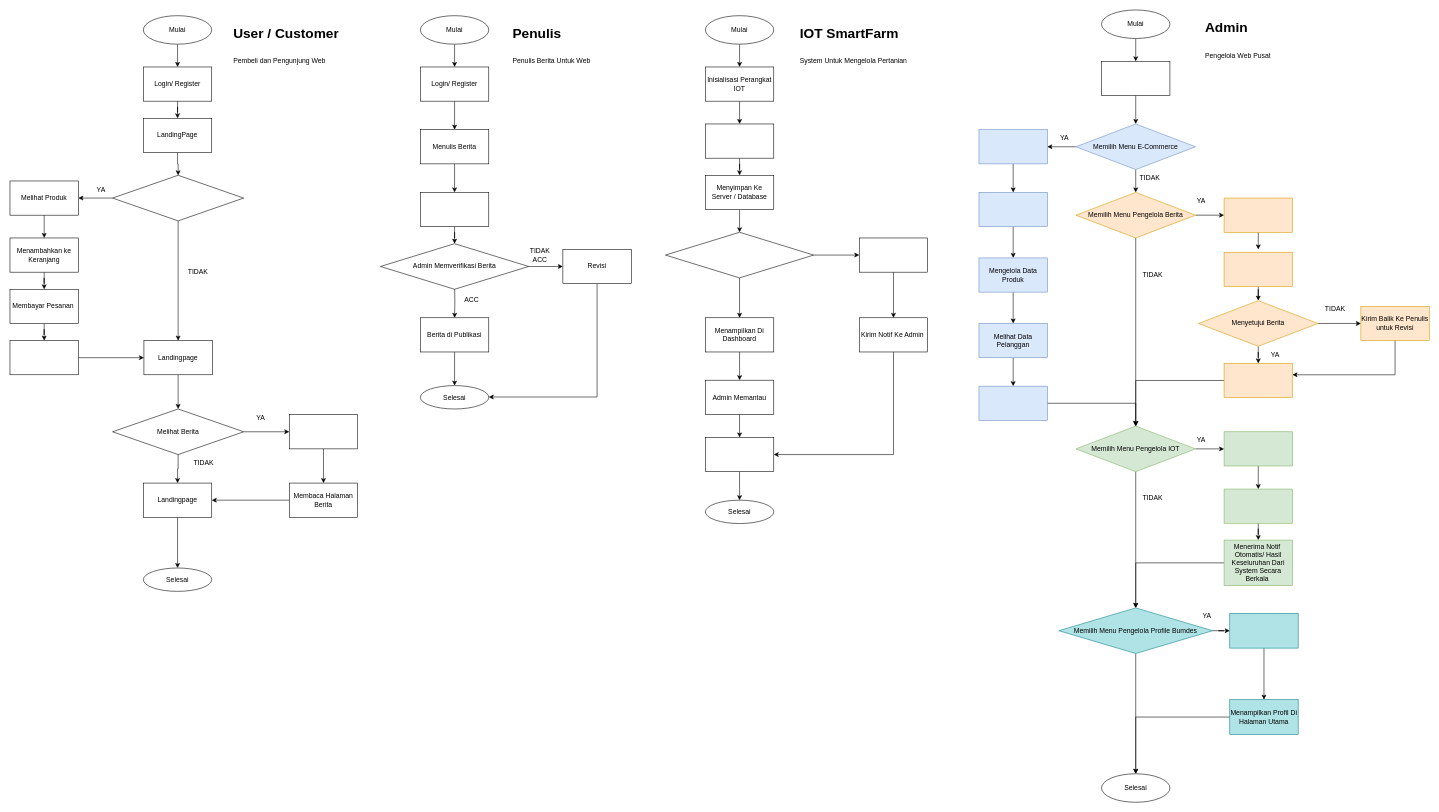
This 1439x812 diagram has some shape labels left out. Each missing label, with the centre of its shape:
Aktifkan Akuator Otomatis: the point at 893,254
Apakah Sensor Normal: the point at 739,255
Login Admin: the point at 1135,78
Melihat Daftar Pesanan: the point at 1012,146
Melihat Data Sensor dari Perangkat IOT: the point at 1258,448
Melihat Halaman Berita: the point at 323,431
Membeli Produk: the point at 178,198
Memeriksa dan Memverifikasi Berita: the point at 1258,269
Memverivikasi dan mengubah status Pesanan: the point at 1012,209
Menerima Bukti Pembayaran: the point at 43,357
Menerima Kiriman Berita Dari Penulis: the point at 1258,215
Mengatur akuator secara manual atau otomatis: the point at 1258,505
Mengelola Profil Bumdes: the point at 1263,630
Mengirimkan Ke admin: the point at 454,209
Mengirimkan Notif Ke Pelanggan: the point at 1012,403
Publikasi Berita: the point at 1258,380
Sensor Membaca Data (Suhu, Kelembaban, Ketinggian Air): the point at 739,140
Sistem Berjalan Periodik: the point at 739,454
